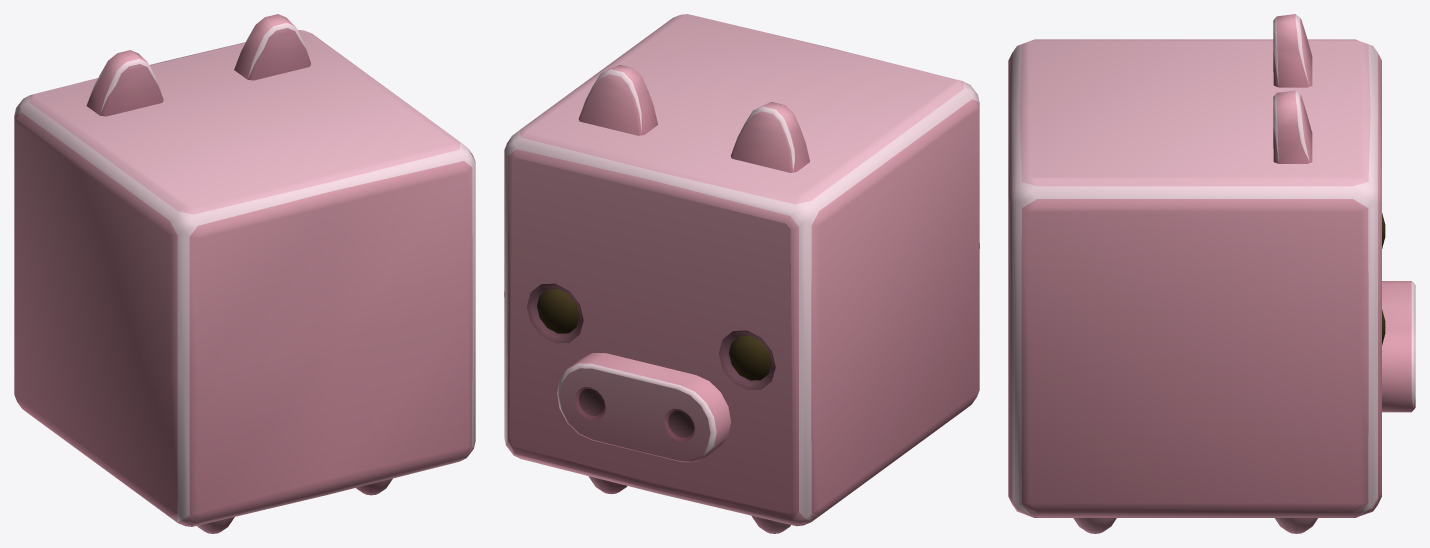
Rendered from Cubimal_Piggy.fbx.
3 renders of one model, left to right at view 1: azimuth 30°, elevation 25°; view 2: azimuth 150°, elevation 25°; view 3: azimuth 270°, elevation 25°, orthographic. The views are drawn at different scales.
Parts seen in each view (by area): view 1: Body; view 2: Body; view 3: Body, Leg_Right_Back, Leg_Right_Front.
Part boxes in pixels (x1,y1,x2,y2): Body: (14,14,475,526); Body: (504,14,979,526); Body: (1008,14,1415,517); Leg_Right_Back: (1073,518,1116,533); Leg_Right_Front: (1275,518,1317,533).
Bounding box in the file's own units: 20.09 × 25.83 × 21.9.
